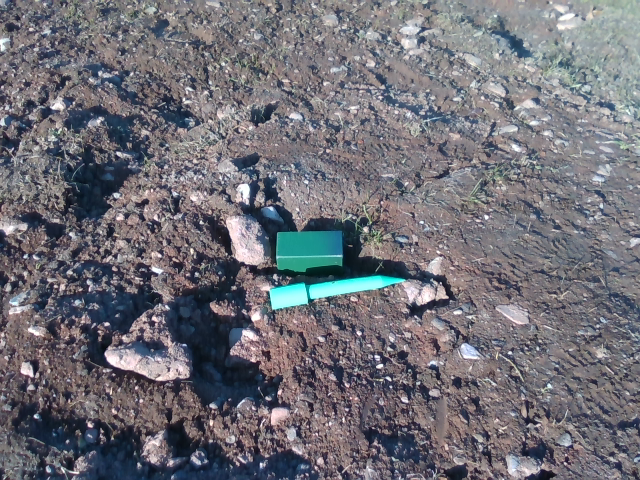Probe: (266, 270, 411, 315)
